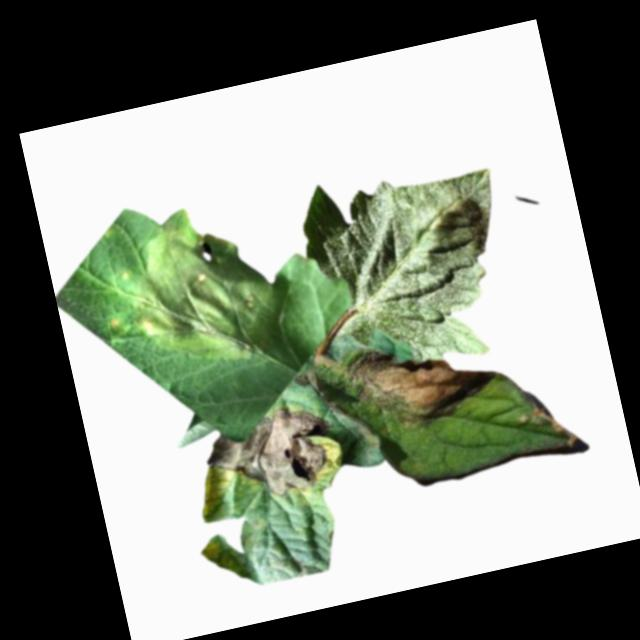Late_blight: (114, 192, 295, 380), (339, 325, 504, 441), (197, 396, 347, 513), (515, 383, 579, 458)
